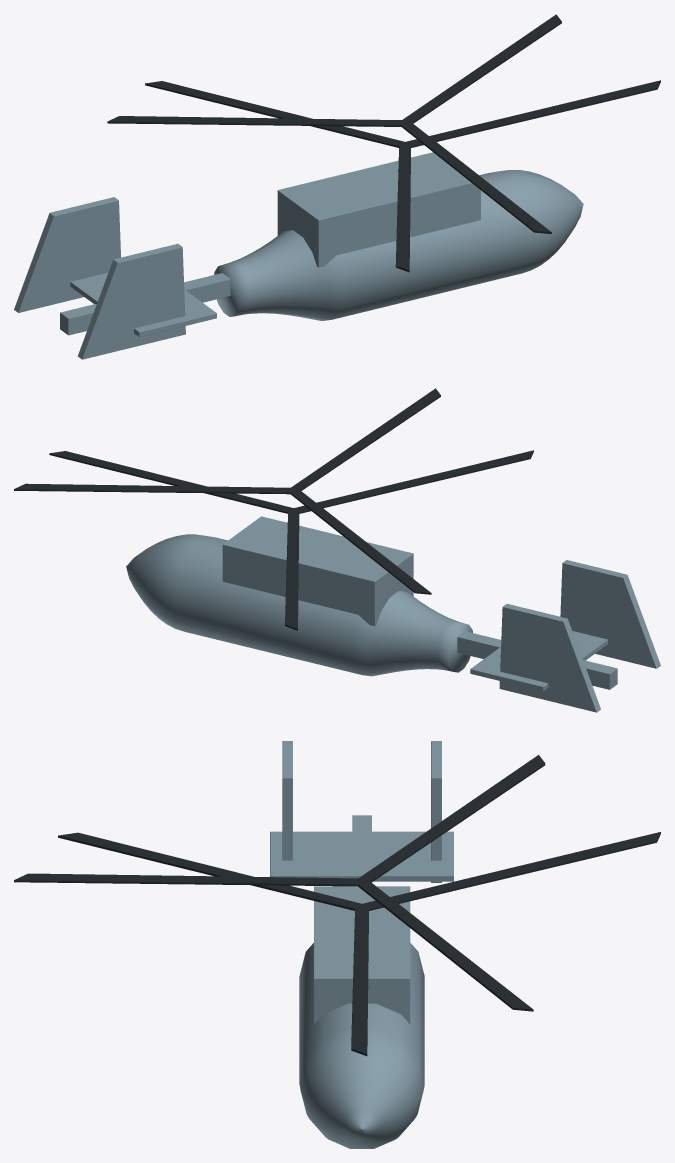
3 views of the same model, one above another, from view 1: azimuth 30°, elevation 25°; view 2: azimuth 150°, elevation 25°; view 3: azimuth 270°, elevation 25° (orthographic). The views are drawn at different scales.
Visible parts, largest first — view 1: cw90_ka27; view 2: cw90_ka27; view 3: cw90_ka27.
Boxes of the visible parts, x1,y1,x2,y2 form: cw90_ka27: [14, 14, 660, 359]; cw90_ka27: [14, 388, 660, 712]; cw90_ka27: [14, 741, 660, 1148].
Size of the model in its own units: 10 by 2.68 by 7.8.
